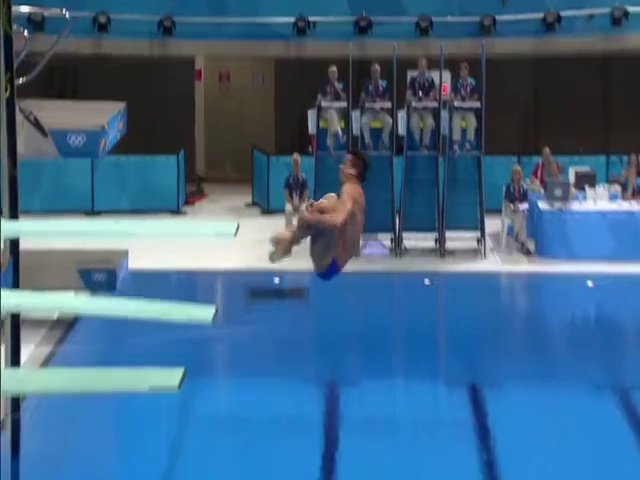diver: (267, 150, 368, 280)
